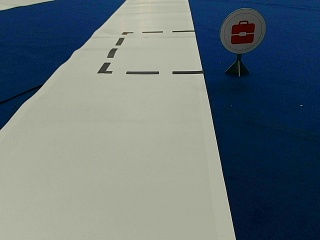company: (220, 7, 266, 52)
